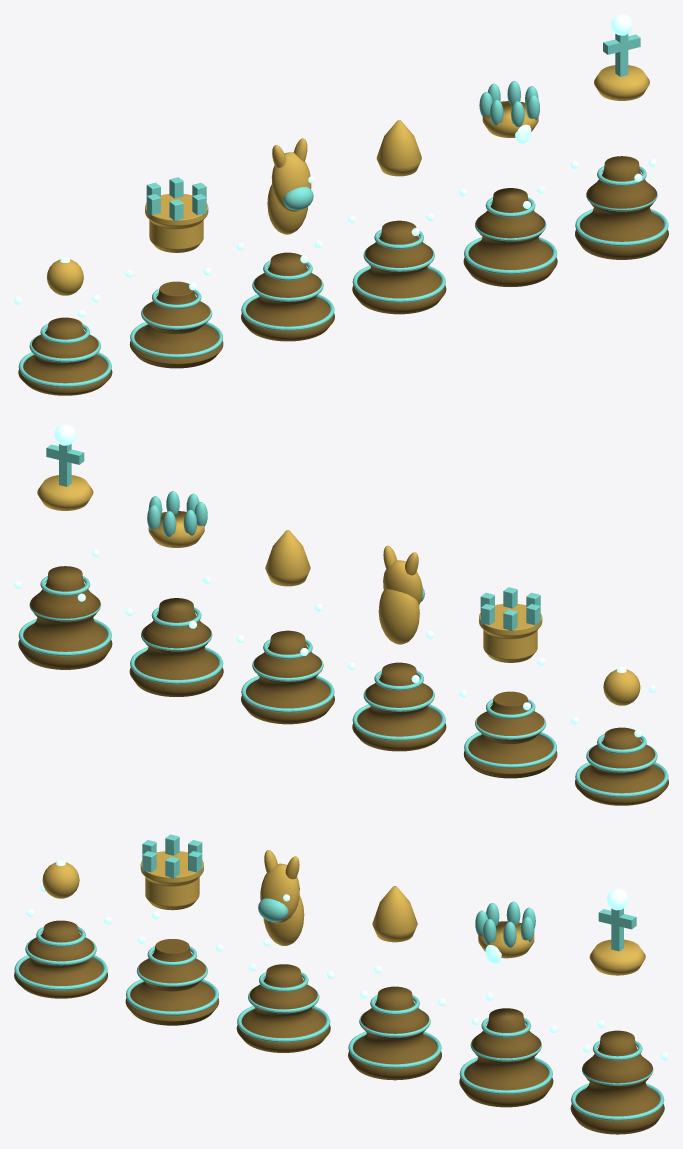
File: 09_Egipcio_Alquimia_Mistica_6_Piezas.glb
3 renders of one model, top to bottom at view 1: azimuth 30°, elevation 25°; view 2: azimuth 150°, elevation 25°; view 3: azimuth 330°, elevation 25°, orthographic.
Visible parts, largest first — view 1: 09_Egipcio_Alquimia_Mistica_Torre, 09_Egipcio_Alquimia_Mistica_Rey, 09_Egipcio_Alquimia_Mistica_Caballo, 09_Egipcio_Alquimia_Mistica_Reina, 09_Egipcio_Alquimia_Mistica_Alfil, 09_Egipcio_Alquimia_Mistica_Peon; view 2: 09_Egipcio_Alquimia_Mistica_Torre, 09_Egipcio_Alquimia_Mistica_Rey, 09_Egipcio_Alquimia_Mistica_Caballo, 09_Egipcio_Alquimia_Mistica_Reina, 09_Egipcio_Alquimia_Mistica_Alfil, 09_Egipcio_Alquimia_Mistica_Peon; view 3: 09_Egipcio_Alquimia_Mistica_Rey, 09_Egipcio_Alquimia_Mistica_Torre, 09_Egipcio_Alquimia_Mistica_Reina, 09_Egipcio_Alquimia_Mistica_Caballo, 09_Egipcio_Alquimia_Mistica_Alfil, 09_Egipcio_Alquimia_Mistica_Peon.
Boxes of the visible parts, x1,y1,x2,y2 form: 09_Egipcio_Alquimia_Mistica_Torre: (125, 177, 223, 368); 09_Egipcio_Alquimia_Mistica_Rey: (570, 14, 668, 259); 09_Egipcio_Alquimia_Mistica_Caballo: (236, 138, 334, 341); 09_Egipcio_Alquimia_Mistica_Reina: (459, 81, 557, 286); 09_Egipcio_Alquimia_Mistica_Alfil: (348, 120, 446, 314); 09_Egipcio_Alquimia_Mistica_Peon: (14, 256, 112, 395); 09_Egipcio_Alquimia_Mistica_Torre: (459, 587, 557, 778); 09_Egipcio_Alquimia_Mistica_Rey: (14, 424, 112, 669); 09_Egipcio_Alquimia_Mistica_Caballo: (348, 545, 446, 751); 09_Egipcio_Alquimia_Mistica_Reina: (125, 491, 223, 696); 09_Egipcio_Alquimia_Mistica_Alfil: (236, 530, 334, 724); 09_Egipcio_Alquimia_Mistica_Peon: (570, 666, 668, 805); 09_Egipcio_Alquimia_Mistica_Rey: (570, 888, 668, 1134); 09_Egipcio_Alquimia_Mistica_Torre: (125, 834, 223, 1025); 09_Egipcio_Alquimia_Mistica_Reina: (459, 901, 557, 1107); 09_Egipcio_Alquimia_Mistica_Caballo: (236, 850, 334, 1052); 09_Egipcio_Alquimia_Mistica_Alfil: (348, 886, 446, 1080); 09_Egipcio_Alquimia_Mistica_Peon: (14, 859, 112, 998).
Bounding box in the file's own units: 8.16 × 2.77 × 1.09.
